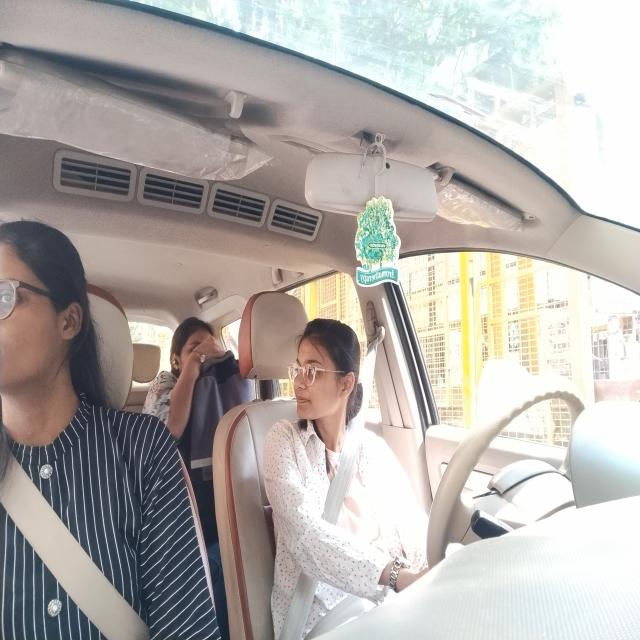LeftRight: (284, 308, 375, 478)
person: (0, 202, 108, 454), (164, 297, 225, 410)
